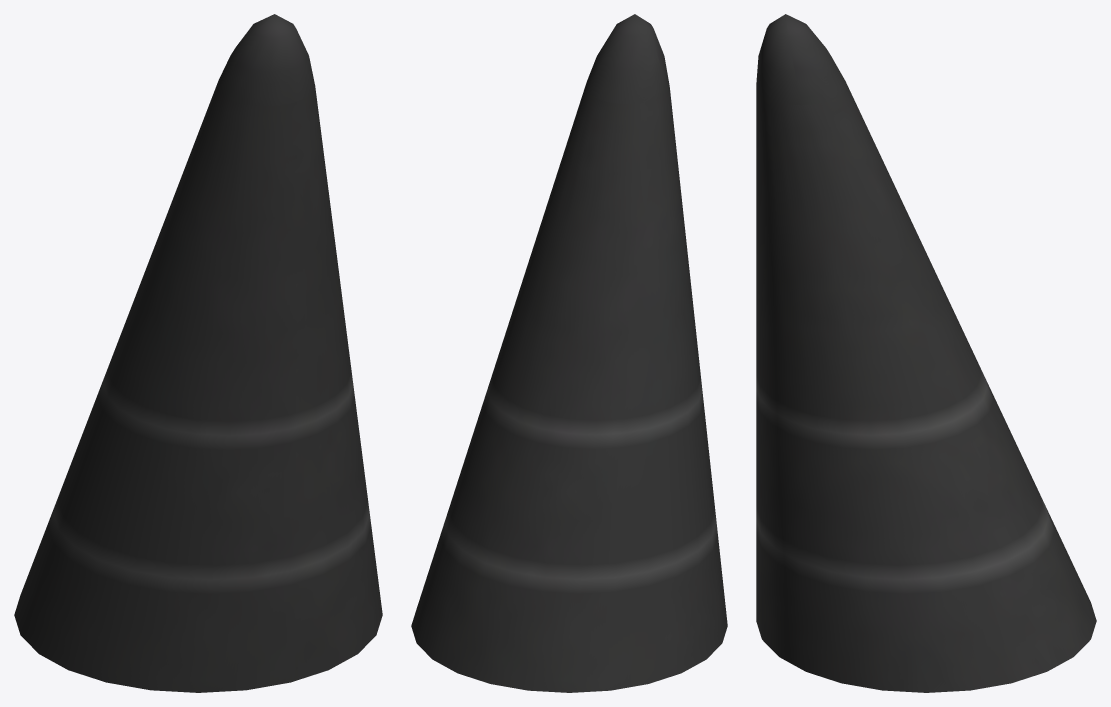
Rendered from rotanev_nose_cone_s0p5_2.obj.
3 views of the same model, side by side, from view 1: azimuth 30°, elevation 25°; view 2: azimuth 150°, elevation 25°; view 3: azimuth 270°, elevation 25° (orthographic). The views are drawn at different scales.
Parts seen in each view (by area): view 1: 1; view 2: 1; view 3: 1.
Boxes of the visible parts, x1=… form: 1: x1=14, y1=14, x2=382, y2=692; 1: x1=411, y1=14, x2=727, y2=692; 1: x1=756, y1=14, x2=1096, y2=692.
Size of the model in its own units: 0.9375 by 1.84 by 0.9375.
